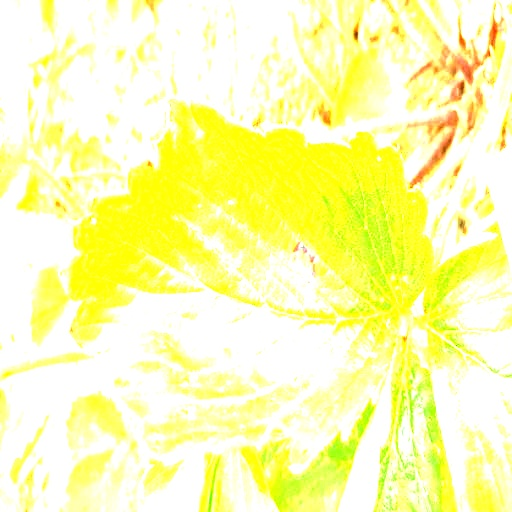Leaf Spot: (56, 96, 435, 475)
